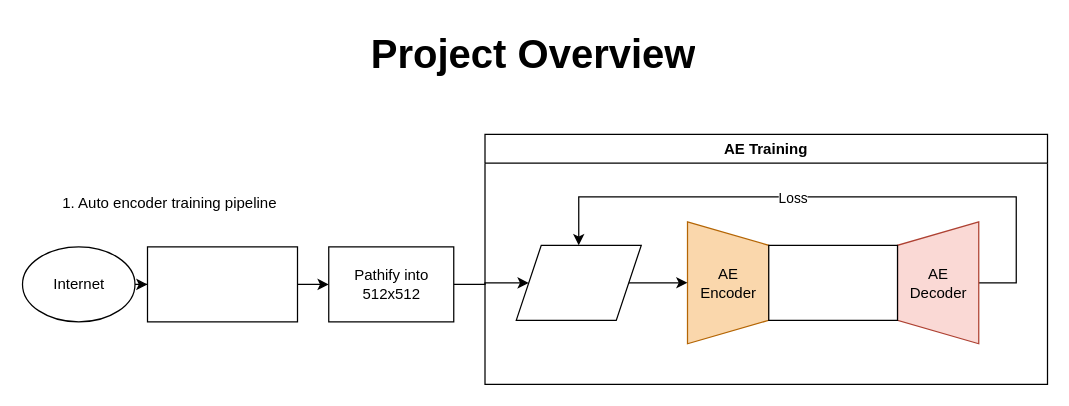
The diagram is 1069 pixels wide and 406 high, and some of its shapes have lost their labels. Here are the shapes that lost their labels. From the top down, the box of each, then its label:
(146, 246, 298, 322): Raw scans
(515, 244, 641, 320): AE Input images [ N,3,512,512 ]
(768, 244, 898, 320): Latent [N,256,32,32]
